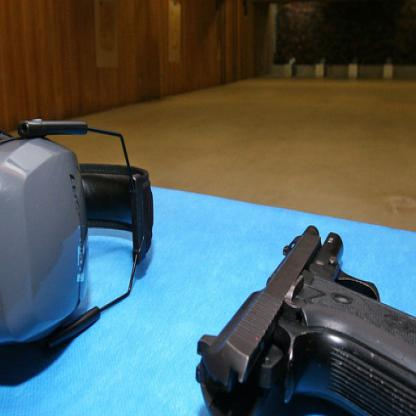gun: (191, 218, 415, 415)
